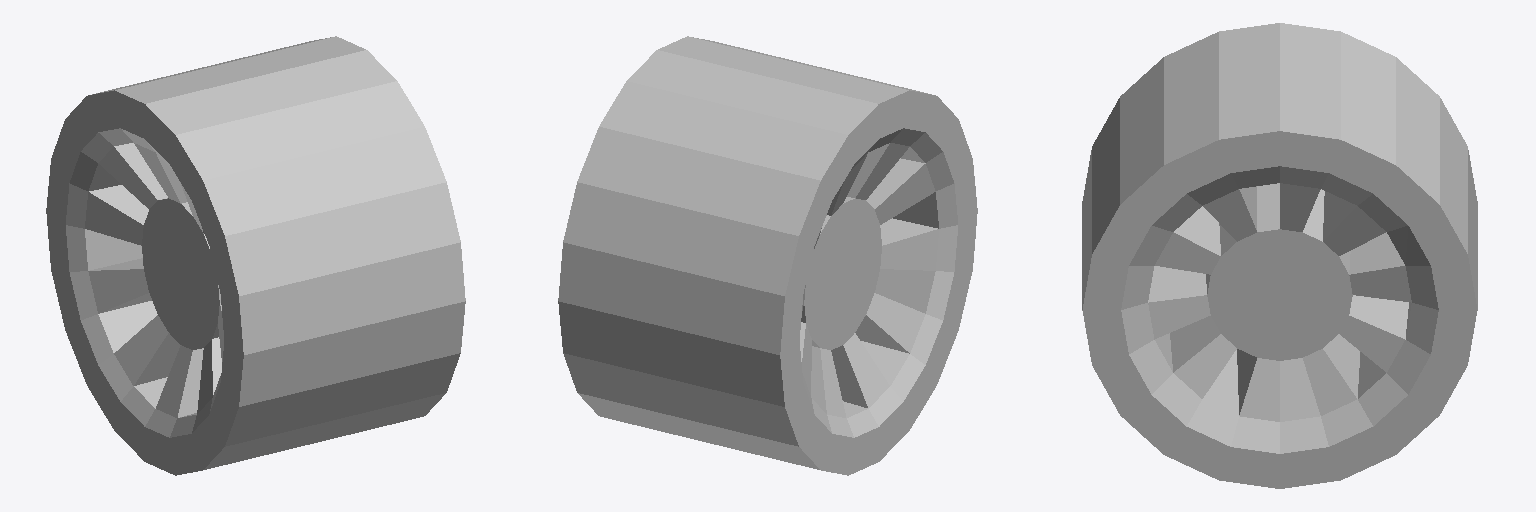
Rendered from JCCarWheel.obj.
3 views of the same model, side by side, from view 1: azimuth 30°, elevation 25°; view 2: azimuth 150°, elevation 25°; view 3: azimuth 270°, elevation 25° (orthographic).
Bounding box in the file's own units: 0.5842 × 0.9007 × 0.9007.